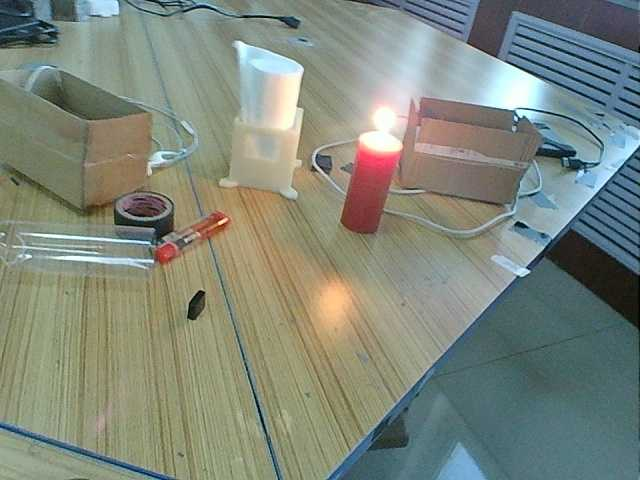candle: (333, 135, 399, 240)
fire: (362, 107, 401, 141)
